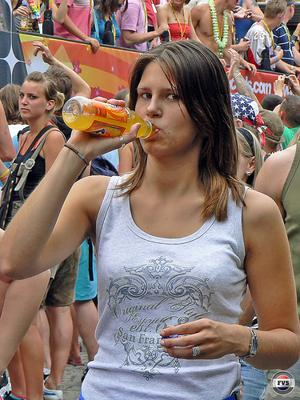person: (1, 38, 300, 400)
